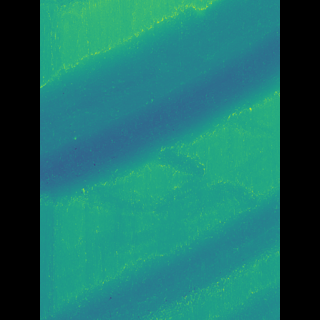Loch: (69, 0, 250, 205), (74, 183, 250, 320)
